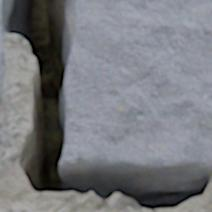brick: (62, 0, 211, 172), (0, 0, 6, 96)
crack: (2, 0, 211, 211)
